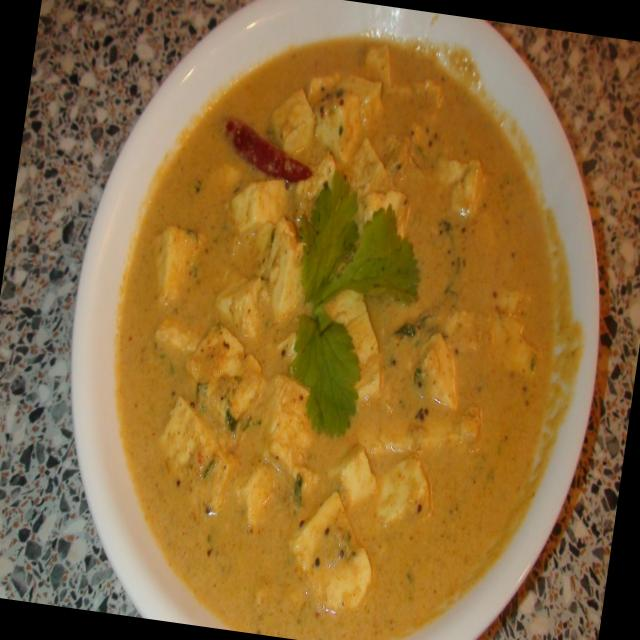ShahiPaneer: (80, 2, 607, 640)
